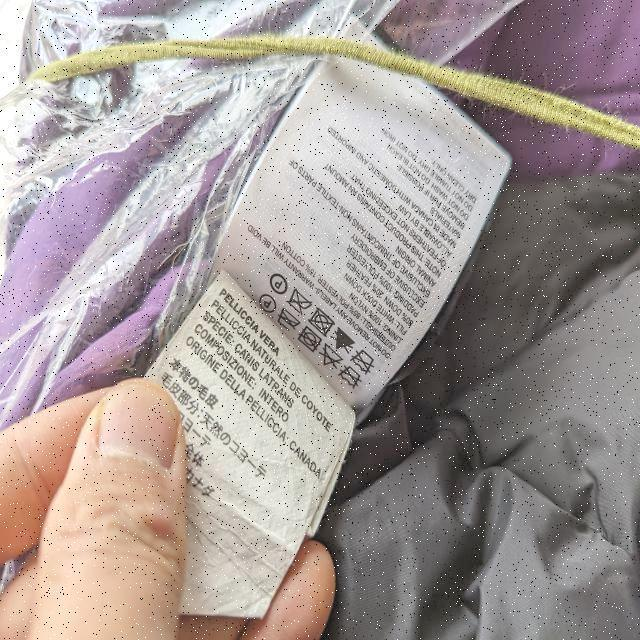DN_bleach: (331, 327, 356, 353), (320, 344, 342, 369)
DN_iron: (277, 309, 303, 332), (288, 290, 312, 313)
DN_tumble_dry: (309, 307, 334, 336), (297, 325, 323, 352)
DN_wash: (339, 366, 362, 390), (353, 350, 375, 373)
dry_clean_any_solvent_except_trichloroethylene: (268, 272, 289, 295), (258, 294, 278, 314)
